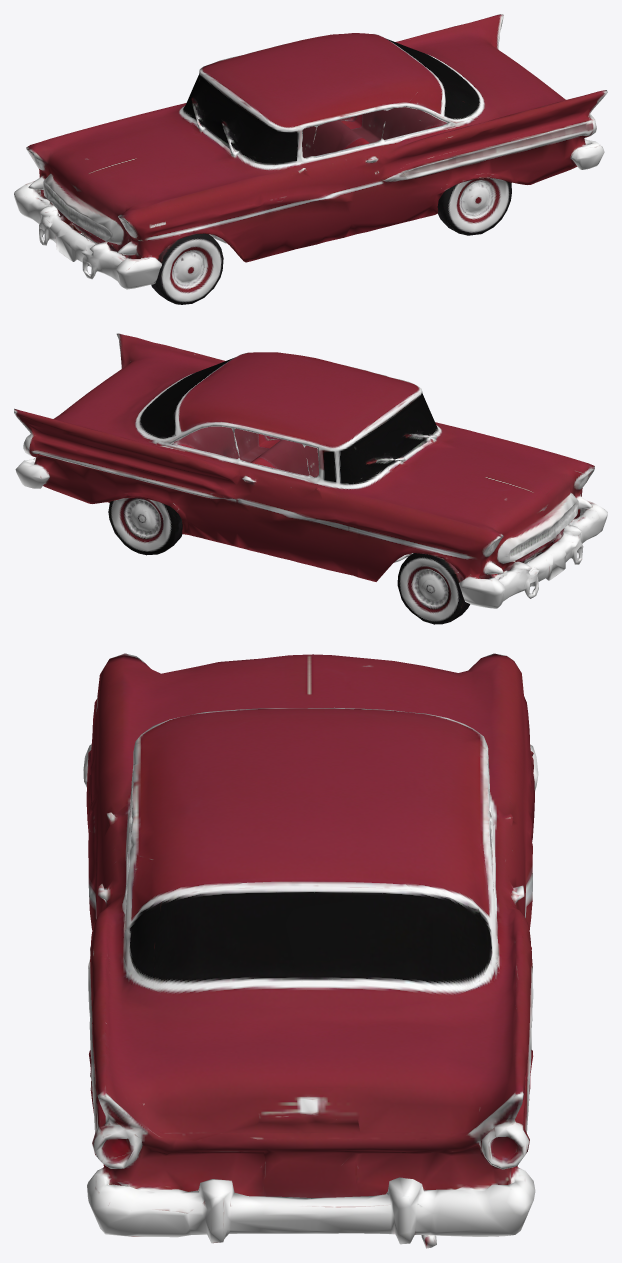
The model's file is Meshy_AI_1960s_American_classi_0501204521_texture.fbx.
3 views of the same model, one above another, from view 1: azimuth 30°, elevation 25°; view 2: azimuth 150°, elevation 25°; view 3: azimuth 270°, elevation 25° (orthographic). The views are drawn at different scales.
Parts seen in each view (by area): view 1: Mesh_0; view 2: Mesh_0; view 3: Mesh_0.
Boxes of the visible parts, x1,y1,x2,y2 form: Mesh_0: [14, 14, 607, 304]; Mesh_0: [14, 333, 607, 624]; Mesh_0: [83, 653, 538, 1248].
Bounding box in the file's own units: 191 × 59.85 × 76.48.
Materials: 1 (1 with a texture image).
